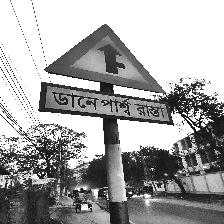Side-road-right: (41, 23, 172, 125)
